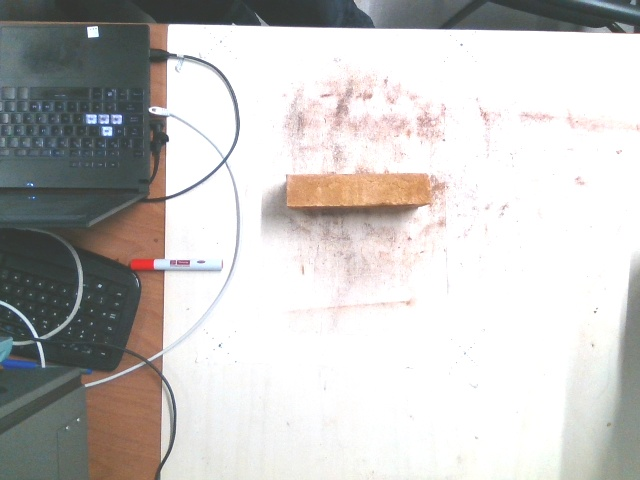brick-side: (286, 172, 430, 206)
